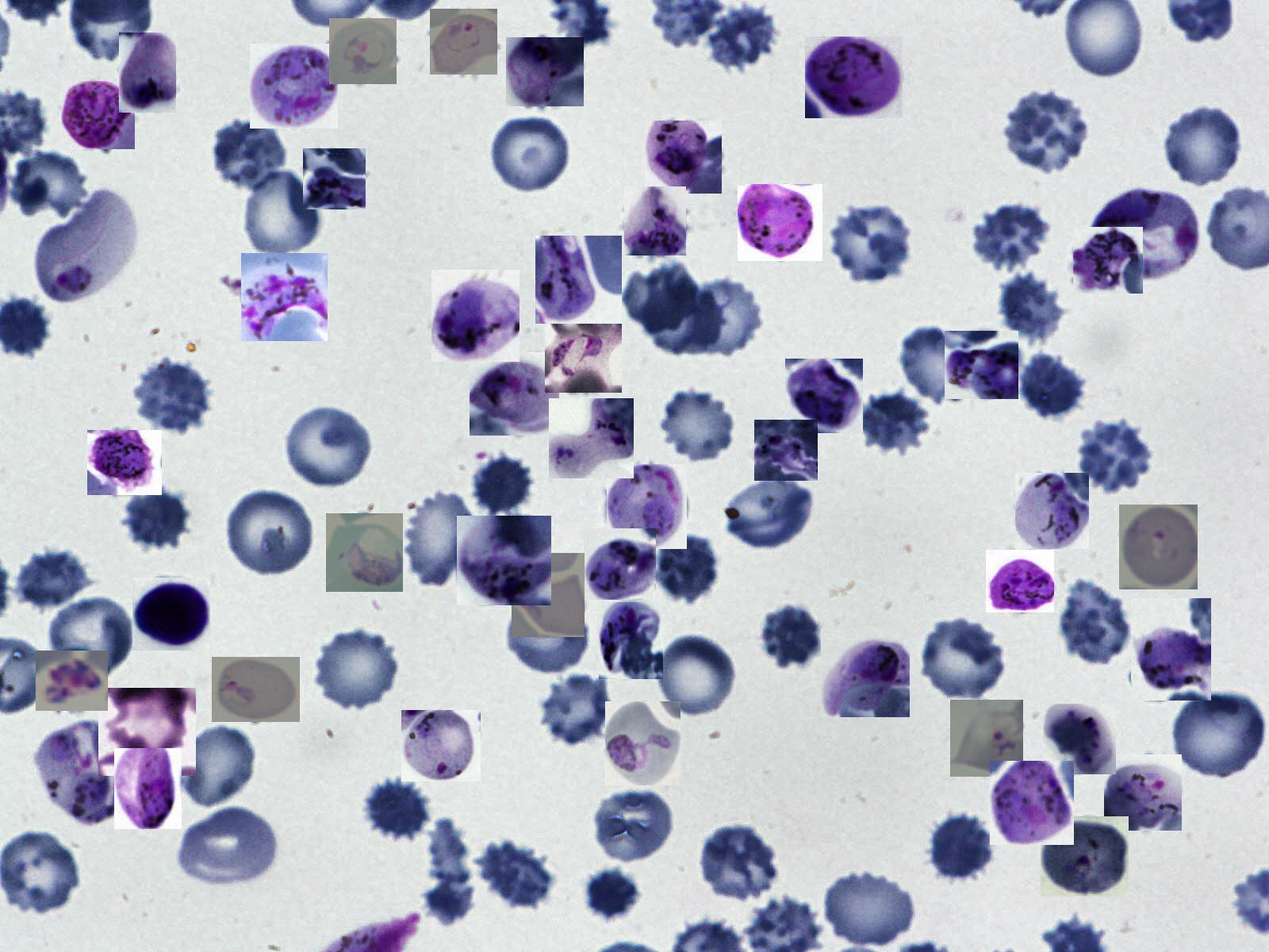Infected: (36, 194, 136, 305), (1091, 188, 1199, 278), (36, 718, 126, 823), (98, 688, 196, 776), (457, 516, 551, 605), (1131, 599, 1211, 701), (431, 270, 519, 362), (805, 37, 903, 118), (821, 628, 910, 717), (241, 253, 328, 341), (535, 236, 622, 324), (250, 44, 338, 129), (470, 352, 559, 436), (990, 761, 1074, 845), (1041, 816, 1129, 896), (549, 398, 634, 478), (608, 464, 688, 549), (1119, 505, 1198, 589), (738, 184, 822, 261), (605, 701, 681, 785), (512, 553, 585, 637), (326, 513, 403, 592), (1104, 754, 1182, 831), (785, 359, 863, 433), (212, 657, 300, 722), (545, 319, 622, 393), (132, 578, 210, 651), (401, 710, 481, 781), (1015, 473, 1089, 549), (645, 121, 722, 194), (950, 700, 1023, 777), (114, 748, 182, 829), (506, 37, 584, 106), (584, 528, 656, 600), (1043, 704, 1116, 774), (61, 81, 135, 149), (945, 331, 1018, 399), (599, 602, 663, 679), (87, 430, 162, 495), (1073, 227, 1143, 294), (119, 33, 176, 113), (329, 18, 397, 84), (430, 9, 497, 75), (36, 651, 108, 711), (624, 186, 686, 255), (986, 550, 1054, 612), (754, 420, 818, 481), (304, 148, 366, 209)
Uninfected: (1170, 685, 1268, 781), (177, 803, 282, 889), (223, 486, 319, 577), (45, 596, 139, 681), (918, 615, 1008, 703), (312, 624, 401, 712), (241, 166, 324, 259), (999, 92, 1092, 174), (823, 866, 916, 948), (654, 630, 739, 719), (172, 721, 259, 807), (589, 782, 677, 866), (696, 823, 785, 904), (285, 405, 372, 486), (504, 595, 591, 676), (1164, 103, 1246, 187), (723, 476, 819, 547), (829, 203, 912, 284), (489, 113, 571, 194), (899, 325, 979, 407), (1052, 582, 1130, 665), (136, 357, 215, 436), (655, 388, 739, 462), (409, 488, 471, 585), (1073, 420, 1155, 493), (645, 283, 727, 356), (692, 278, 765, 356), (15, 543, 94, 615), (651, 528, 722, 607), (209, 119, 286, 191), (475, 841, 556, 908), (624, 261, 700, 332), (972, 204, 1052, 271), (542, 676, 615, 748), (423, 816, 471, 925), (927, 810, 999, 882), (12, 150, 86, 220), (997, 271, 1064, 344), (706, 3, 776, 71), (1018, 350, 1086, 420), (755, 601, 822, 669), (859, 391, 931, 451), (366, 775, 431, 841), (470, 452, 534, 519), (121, 489, 190, 549), (583, 869, 642, 921)
